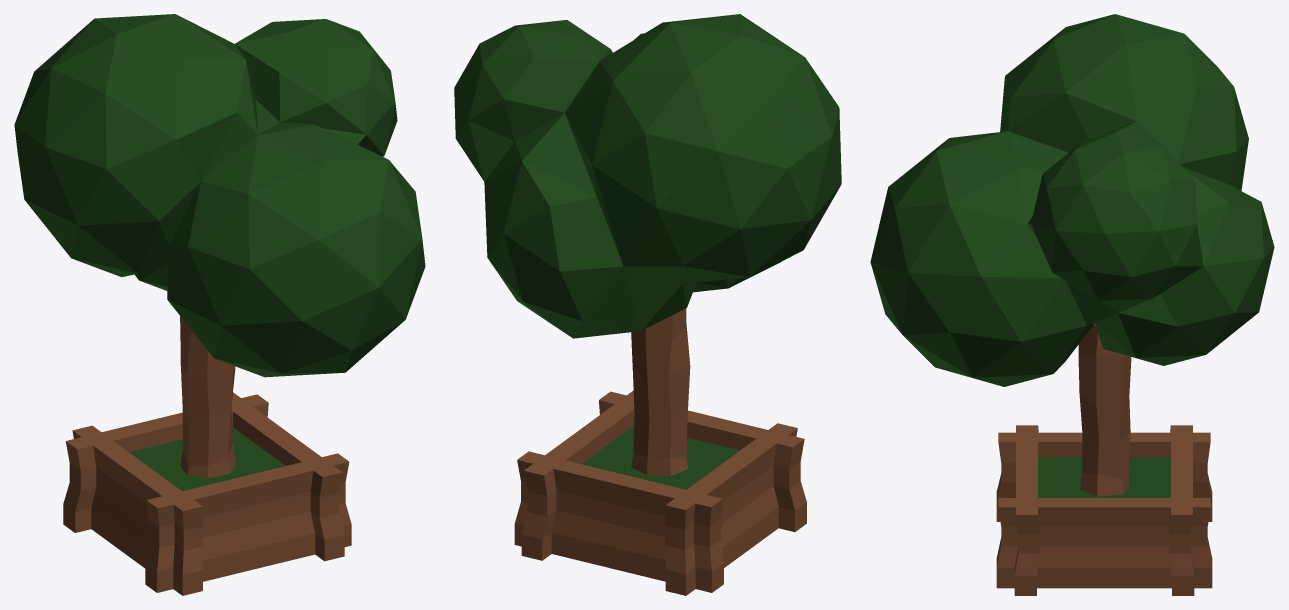
Rendered from TreeInPot3.obj.
The picture shows the model from 3 angles, left to right: view 1: azimuth 30°, elevation 25°; view 2: azimuth 150°, elevation 25°; view 3: azimuth 270°, elevation 25°; orthographic projection. The views are drawn at different scales.
Parts seen in each view (by area): view 1: drzewo.002; view 2: drzewo.002; view 3: drzewo.002.
Part boxes in pixels (left/top/right/bottom): drzewo.002: left=14, top=14, right=425, bottom=595; drzewo.002: left=454, top=14, right=841, bottom=595; drzewo.002: left=870, top=14, right=1274, bottom=595.
Size of the model in its own units: 4.38 by 6.21 by 4.57.
